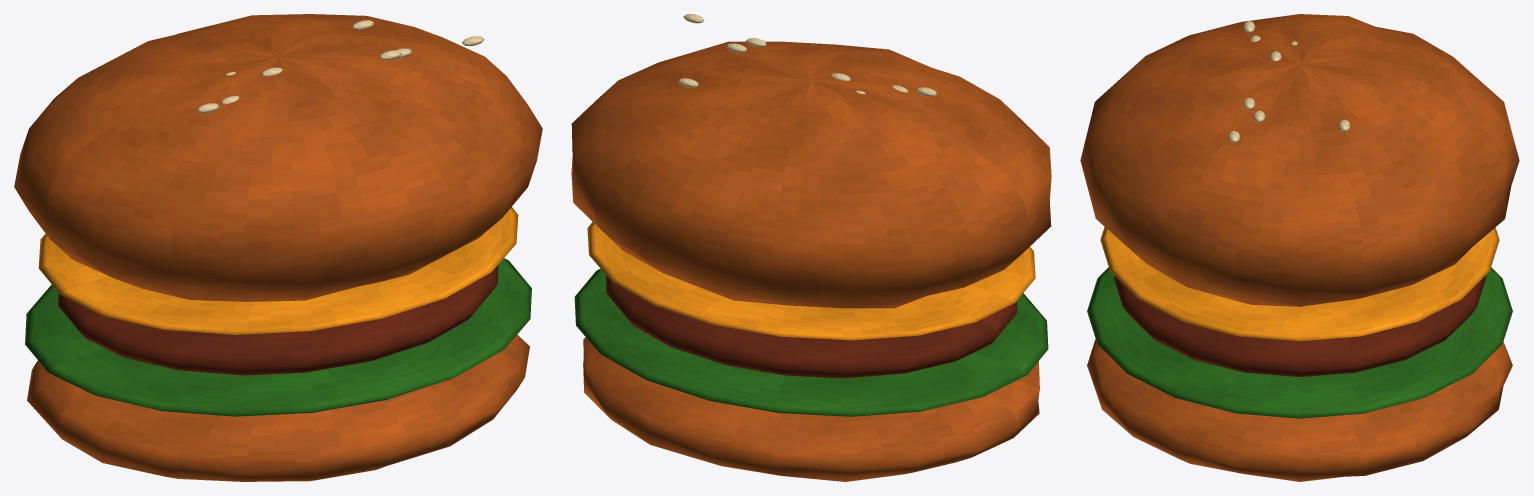
Rendered from bread_cheese_burger.glb.
The picture shows the model from 3 angles, left to right: view 1: azimuth 30°, elevation 25°; view 2: azimuth 150°, elevation 25°; view 3: azimuth 270°, elevation 25°; orthographic projection. The views are drawn at different scales.
Parts seen in each view (by area): view 1: ふっくらした上のバンズ.003, 下のバンズ.003, シャキシャキレタス.003, とろけるチーズ, パティまたは具.003; view 2: ふっくらした上のバンズ.003, 下のバンズ.003, シャキシャキレタス.003, とろけるチーズ, パティまたは具.003; view 3: ふっくらした上のバンズ.003, 下のバンズ.003, シャキシャキレタス.003, とろけるチーズ, パティまたは具.003.
Part boxes in pixels (bbox=[...]): ふっくらした上のバンズ.003: bbox=[14, 14, 542, 301]; 下のバンズ.003: bbox=[27, 335, 529, 481]; シャキシャキレタス.003: bbox=[25, 258, 531, 416]; とろけるチーズ: bbox=[38, 207, 518, 334]; パティまたは具.003: bbox=[58, 264, 498, 375]; ふっくらした上のバンズ.003: bbox=[571, 41, 1051, 308]; 下のバンズ.003: bbox=[583, 337, 1039, 481]; シャキシャキレタス.003: bbox=[574, 268, 1048, 416]; とろけるチーズ: bbox=[587, 222, 1035, 340]; パティまたは具.003: bbox=[606, 275, 1017, 378]; ふっくらした上のバンズ.003: bbox=[1080, 14, 1519, 306]; 下のバンズ.003: bbox=[1087, 339, 1512, 481]; シャキシャキレタス.003: bbox=[1087, 267, 1512, 418]; とろけるチーズ: bbox=[1100, 227, 1499, 341]; パティまたは具.003: bbox=[1113, 276, 1486, 376].
Bounding box in the file's own units: 0.7731 × 0.5883 × 0.66.
Materials: 5 (5 with a texture image).
